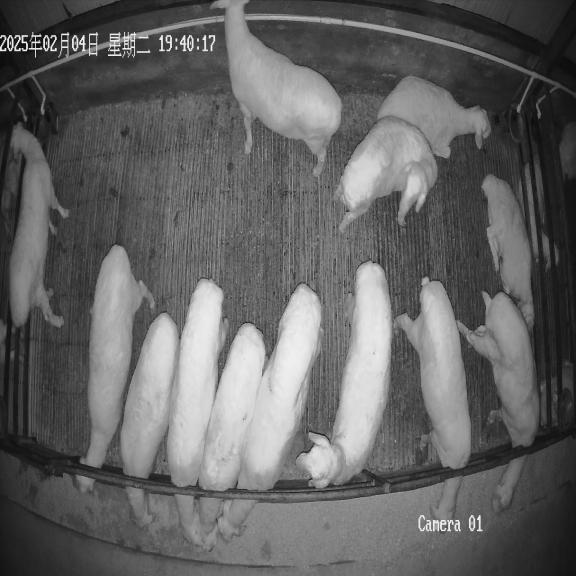eating: (217, 284, 322, 540), (395, 277, 471, 520), (457, 291, 540, 512), (167, 278, 229, 549), (198, 323, 266, 550), (120, 312, 179, 527)
lying: (378, 76, 491, 158), (482, 174, 534, 328)
stand: (211, 0, 342, 176), (296, 261, 392, 488), (73, 244, 155, 492), (9, 122, 69, 328), (334, 116, 437, 231)
